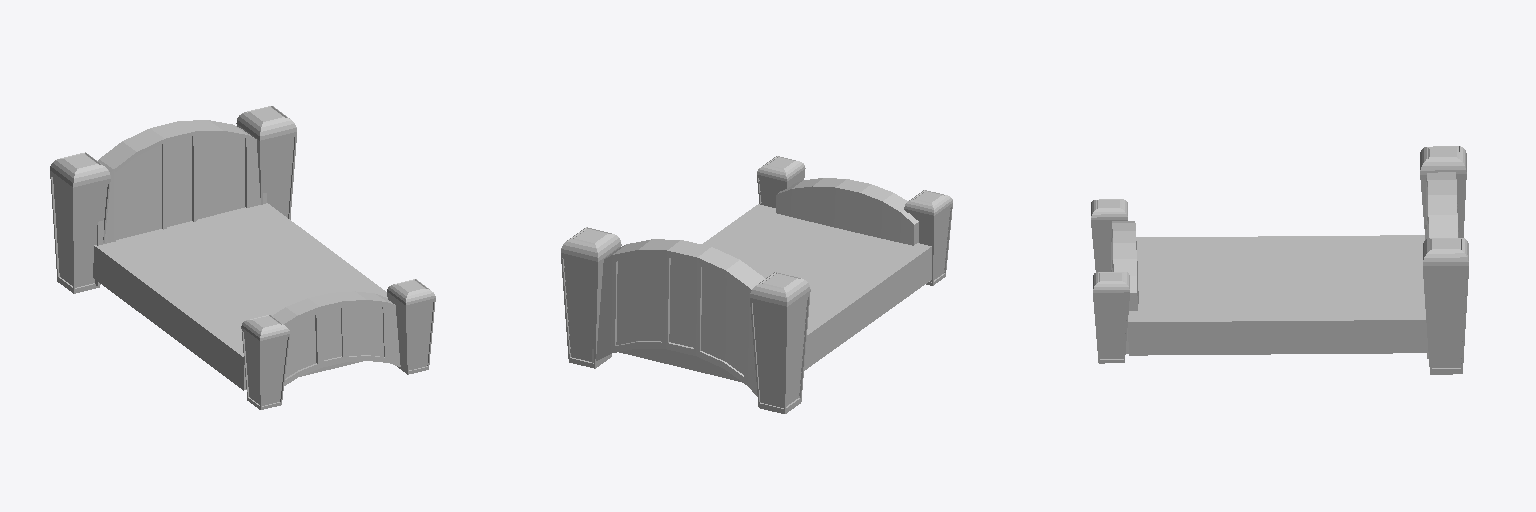
The model's file is bed.obj.
3 renders of one model, left to right at view 1: azimuth 30°, elevation 25°; view 2: azimuth 150°, elevation 25°; view 3: azimuth 270°, elevation 25°, orthographic.
Visible parts, largest first — view 1: polySurface111; view 2: polySurface111; view 3: polySurface111.
Boxes of the visible parts, x1=… form: polySurface111: x1=50, y1=106, x2=435, y2=409; polySurface111: x1=561, y1=156, x2=952, y2=413; polySurface111: x1=1091, y1=146, x2=1468, y2=374.
Bounding box in the file's own units: 6.64 × 3.79 × 9.66.